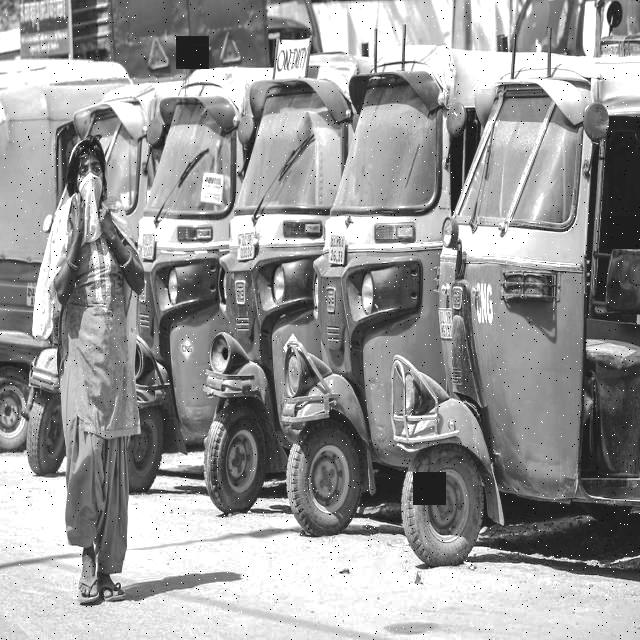Auto-Rickshaw: (417, 27, 639, 551), (290, 15, 492, 563), (202, 27, 396, 535), (127, 45, 277, 502)
